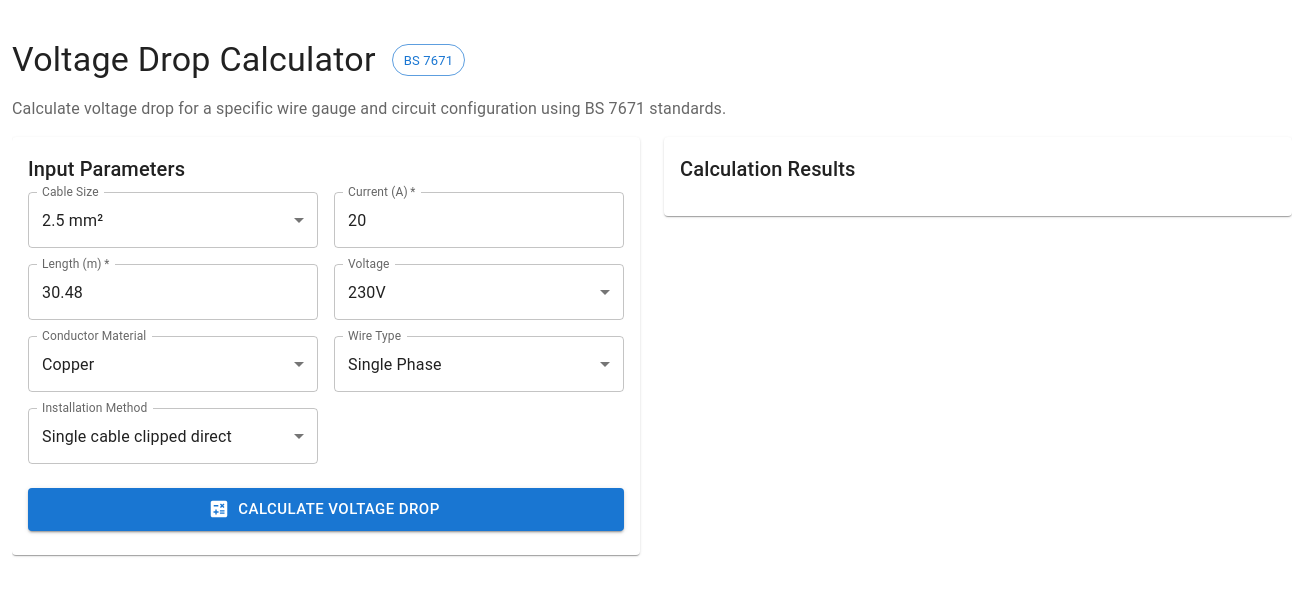
Test: VoltageDropCalculator › BS7671 Standard Support › should show correct BS 7671 voltage drop limits
Expected: the heading "Voltage Drop Calculator" is shown, [12, 39, 376, 81]
// Trigger calculation
Click the button "Calculate Voltage Drop" at [326, 510], box [28, 488, 624, 531]
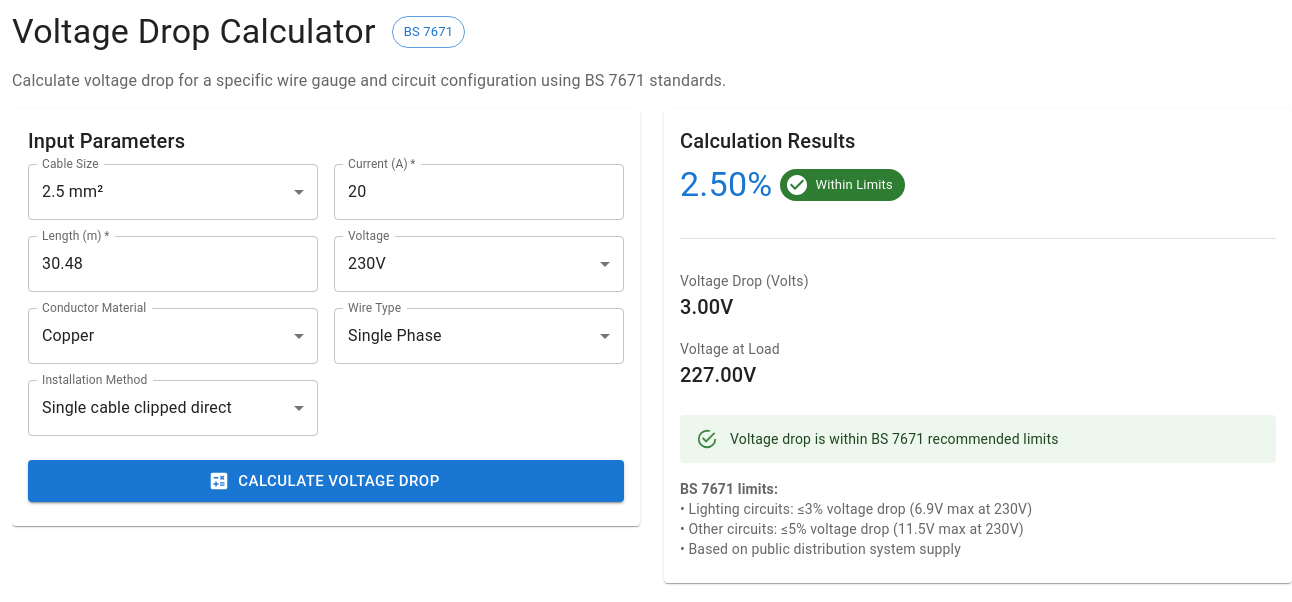
Expected: the text "BS 7671 limits:" is shown, [680, 481, 778, 497]
Expected: the text "Lighting circuits: ≤3% voltage drop" is shown, [680, 501, 1032, 517]
Expected: the text "Other circuits: ≤5% voltage drop" is shown, [680, 521, 1024, 537]
